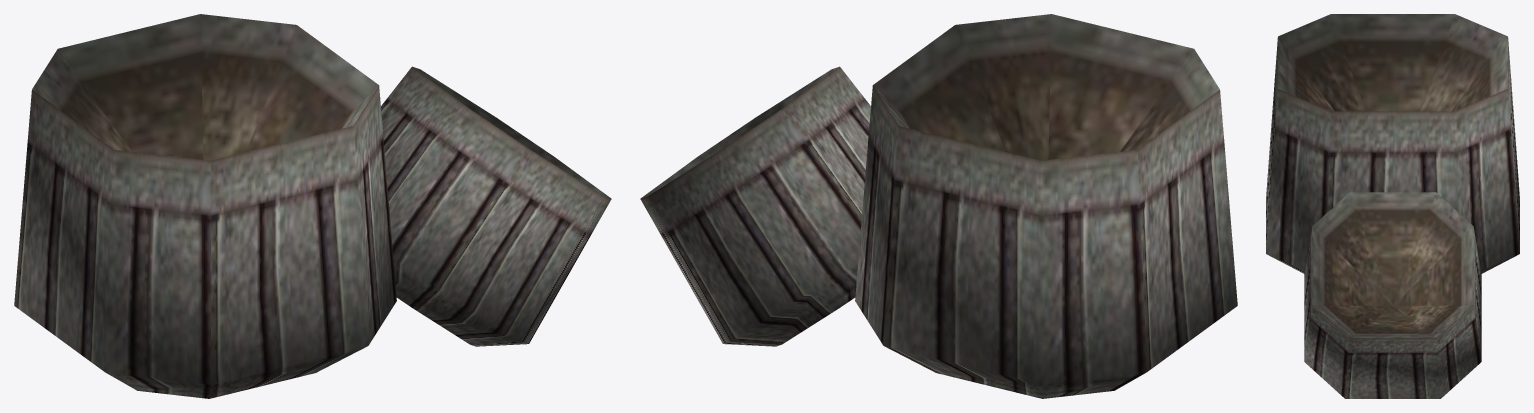
File: oas_kara_obj03.glb
3 views of the same model, side by side, from view 1: azimuth 30°, elevation 25°; view 2: azimuth 150°, elevation 25°; view 3: azimuth 270°, elevation 25° (orthographic). The views are drawn at different scales.
Visible parts, largest first — view 1: oas_kara_obj03; view 2: oas_kara_obj03; view 3: oas_kara_obj03.
Boxes of the visible parts, x1=… form: oas_kara_obj03: x1=14, y1=14, x2=611, y2=398; oas_kara_obj03: x1=640, y1=14, x2=1237, y2=398; oas_kara_obj03: x1=1266, y1=14, x2=1519, y2=398.
Size of the model in its own units: 0.9396 by 0.5225 by 0.5241.
1 material, 1 textured.
